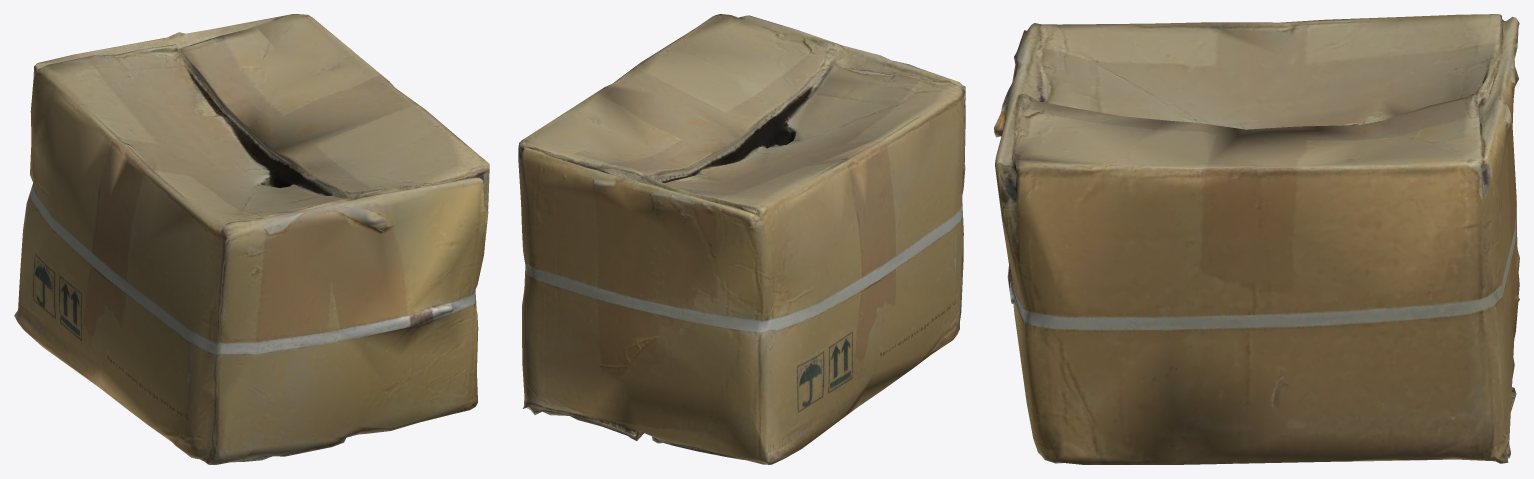
File: cardboard_box_01.glb
The picture shows the model from 3 angles, left to right: view 1: azimuth 30°, elevation 25°; view 2: azimuth 150°, elevation 25°; view 3: azimuth 270°, elevation 25°; orthographic projection. The views are drawn at different scales.
Visible parts, largest first — view 1: cardboard_box_01; view 2: cardboard_box_01; view 3: cardboard_box_01.
Boxes of the visible parts, x1,y1,x2,y2 form: cardboard_box_01: (14,14,489,464); cardboard_box_01: (518,14,965,464); cardboard_box_01: (994,14,1519,464).
Size of the model in its own units: 0.3865 by 0.3418 by 0.5159.
1 material, 1 textured.
